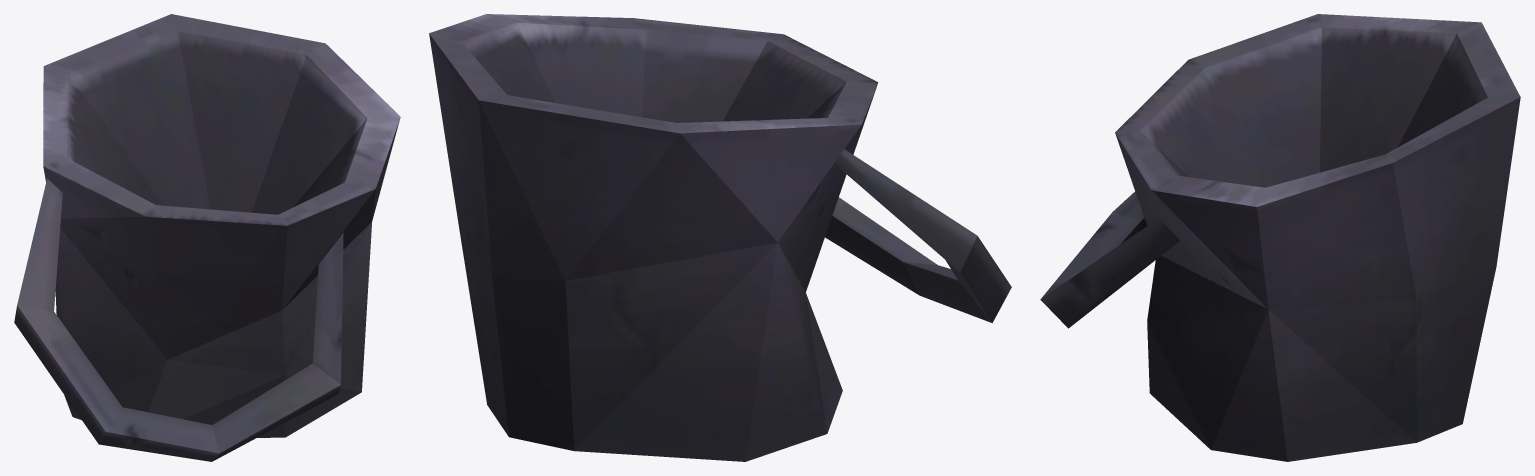
File: lava_bucket_01.fbx
3 renders of one model, left to right at view 1: azimuth 30°, elevation 25°; view 2: azimuth 150°, elevation 25°; view 3: azimuth 270°, elevation 25°, orthographic. The views are drawn at different scales.
Parts seen in each view (by area): view 1: obj0.081; view 2: obj0.081; view 3: obj0.081.
Part boxes in pixels (x1,y1,x2,y2): obj0.081: [14, 14, 400, 461]; obj0.081: [429, 14, 1011, 461]; obj0.081: [1040, 14, 1520, 461].
Size of the model in its own units: 0.9683 by 0.6911 by 0.9226.
